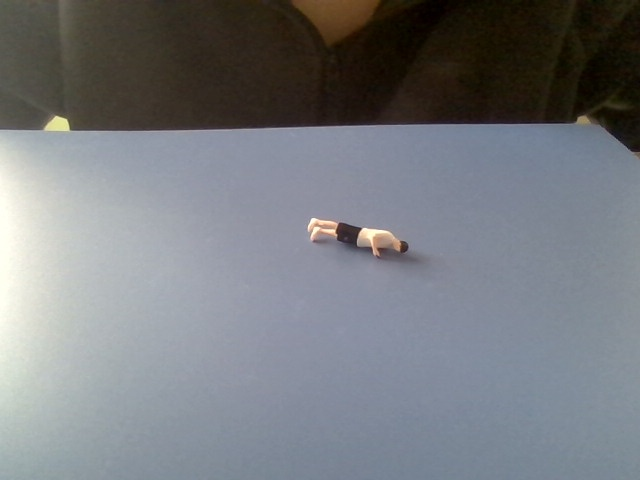fall: (303, 207, 411, 267)
